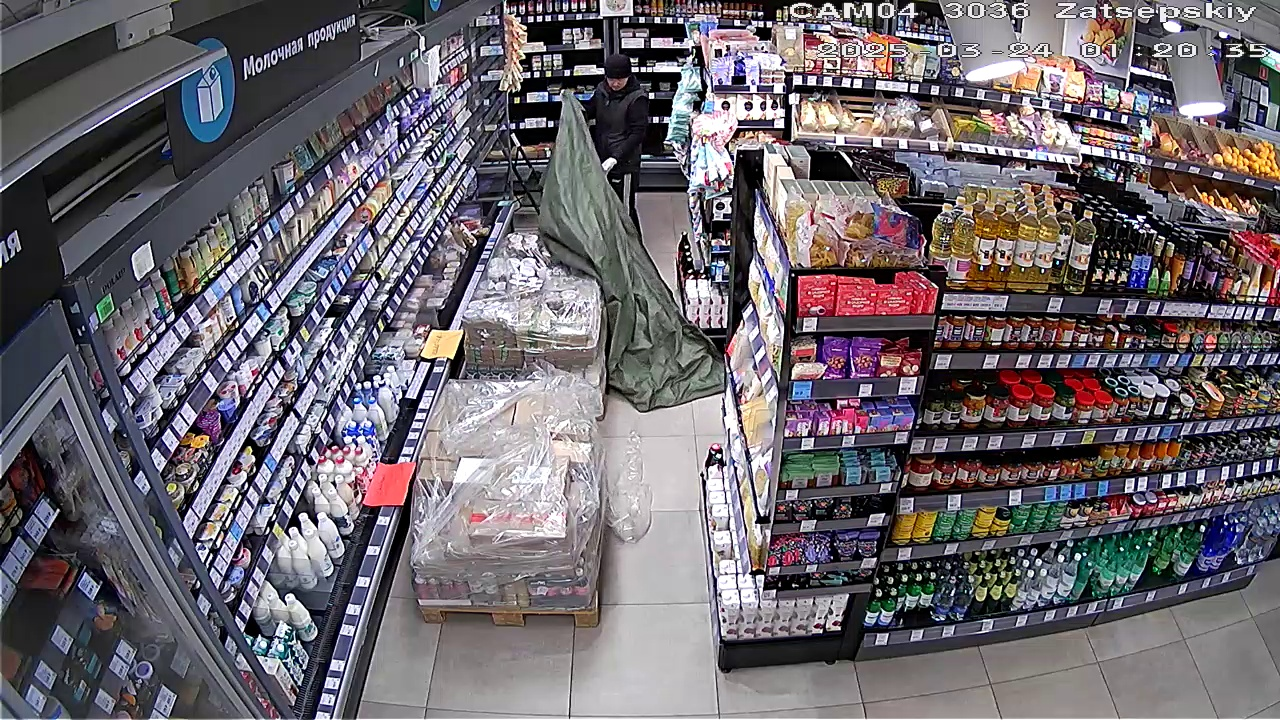Human: (572, 47, 659, 217)
pallet: (401, 372, 613, 627), (467, 228, 607, 373)
